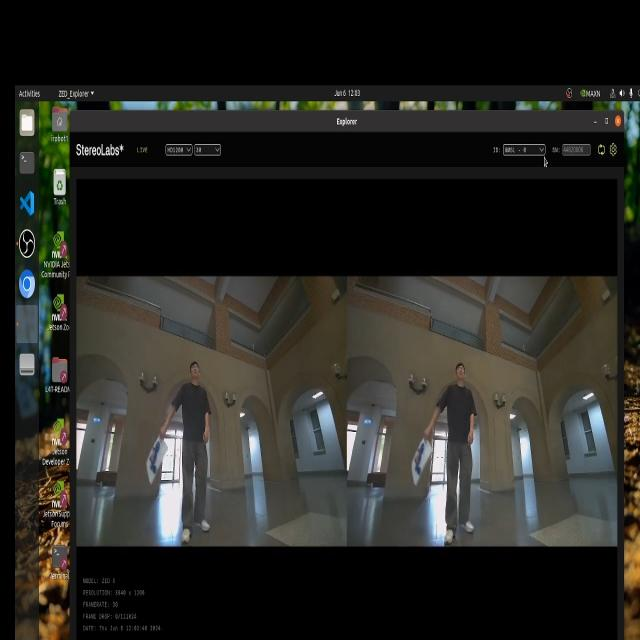blue: (408, 439, 430, 485), (142, 436, 162, 473)
